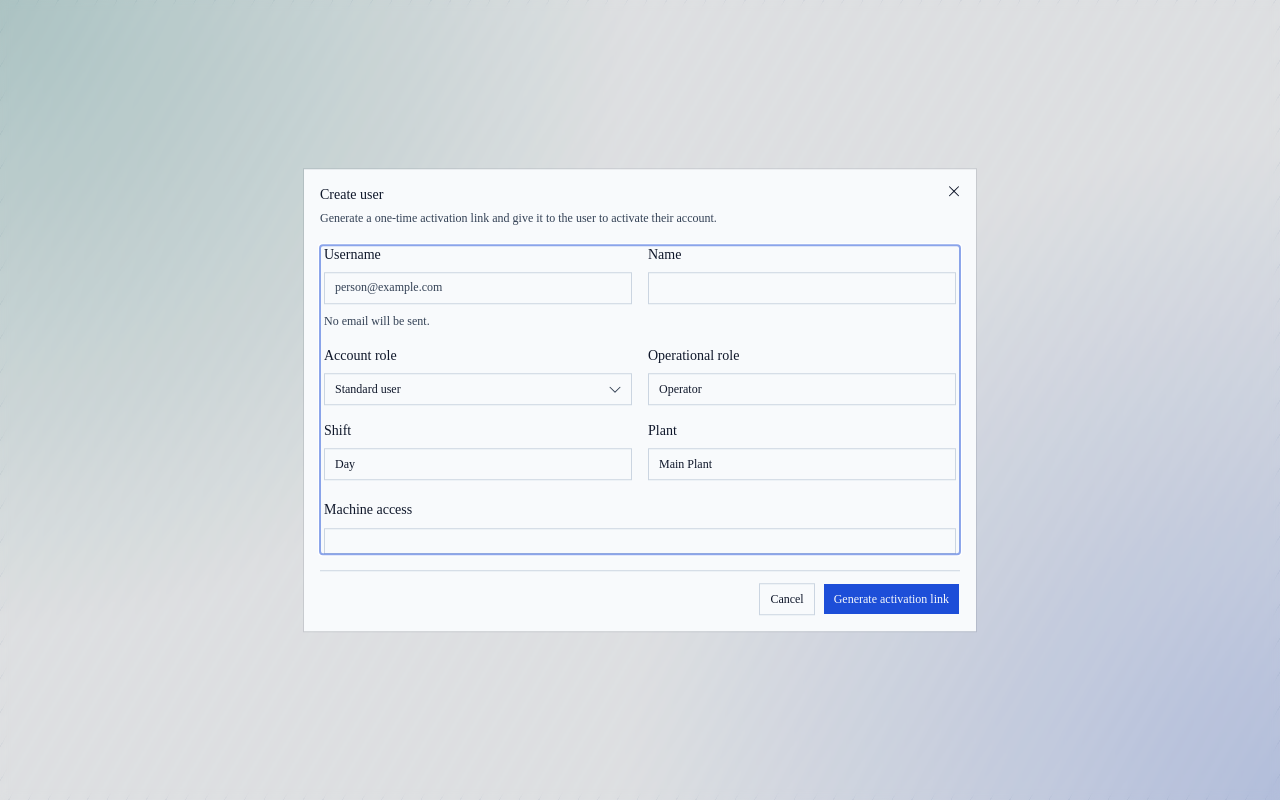
Test: admin user lifecycle › shows the generated activation link without implying email delivery
The image size is (1280, 800).
Expected: the text "No email will be sent." is shown, [324,314,430,328]
Type "new.user@example.com" into the field labelled "Username". click: (478, 288)
box: [324,272,632,304]
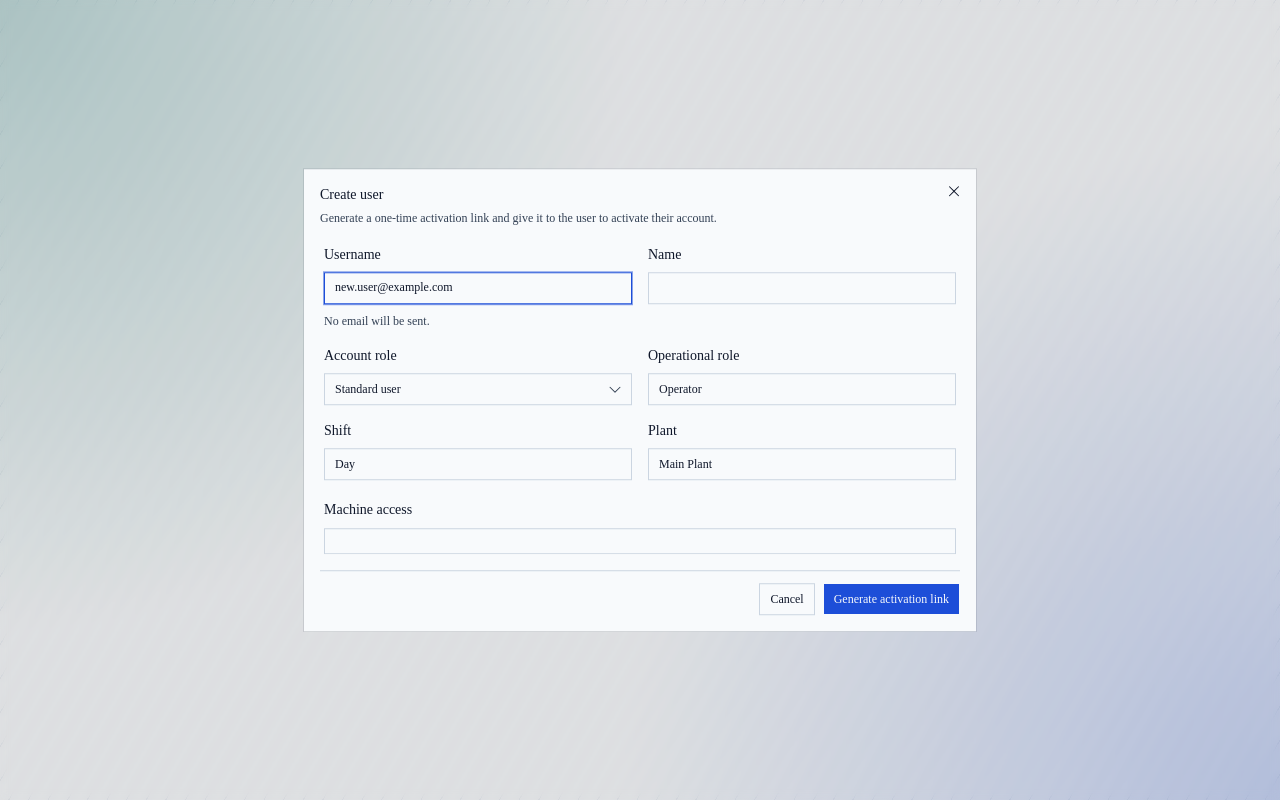
Type "New User" into the field labelled "Name". click: (802, 288)
box: [648,272,956,304]
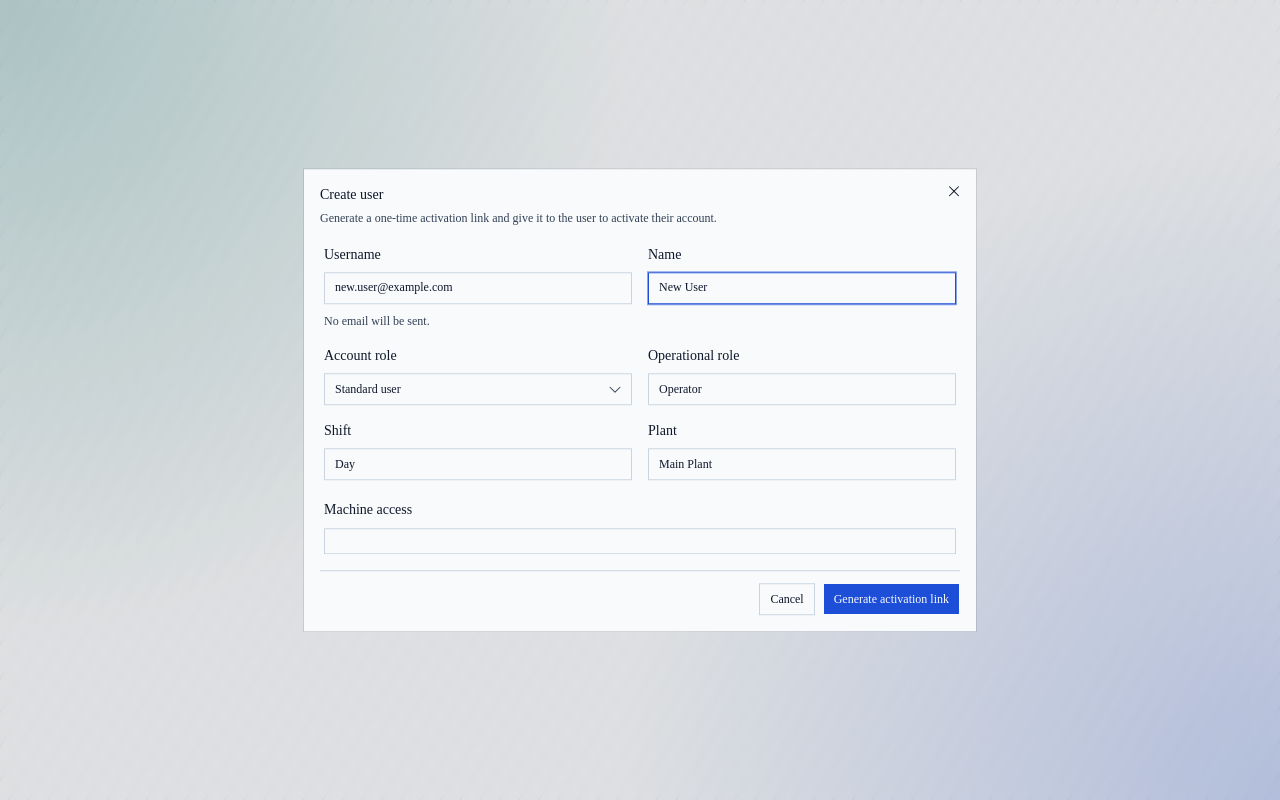
Click the button "Generate activation link". click: (891, 599)
box: [823,583,960,615]
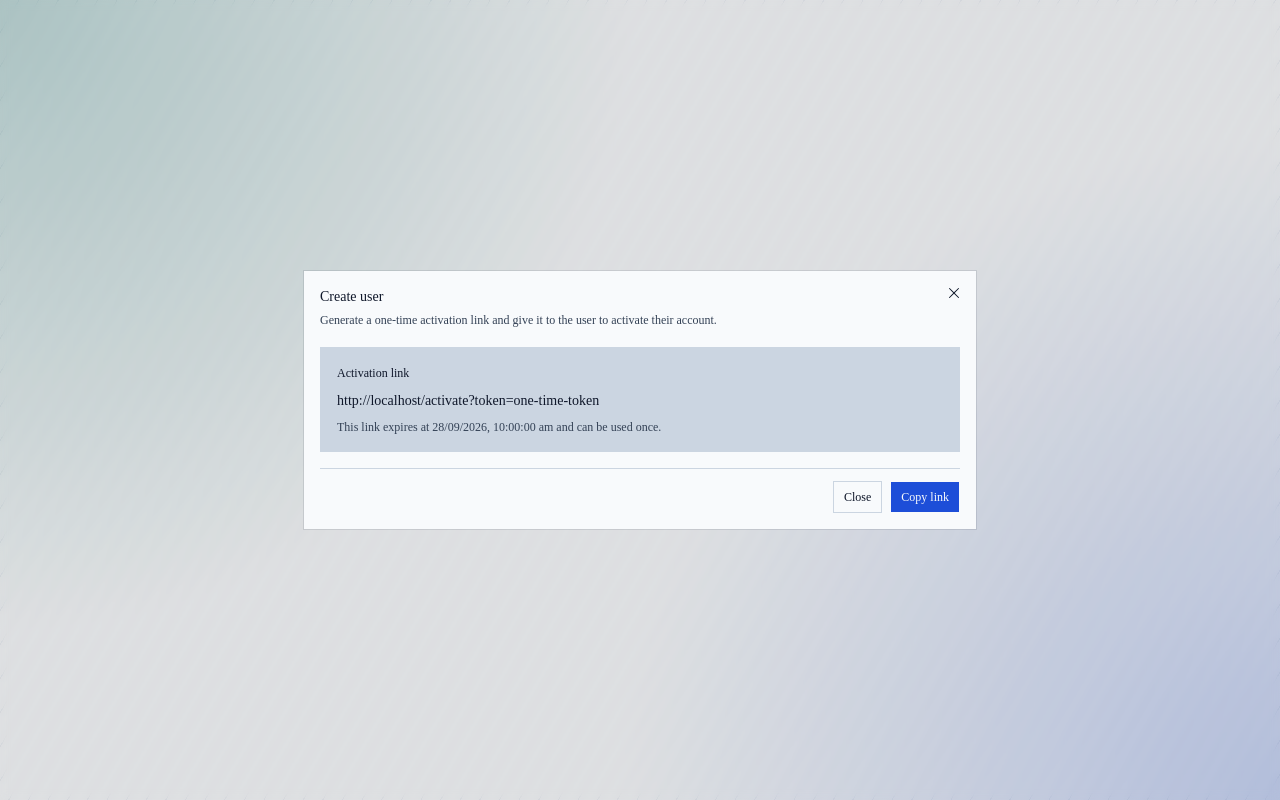
Expected: the text "http://localhost/activate?token=one-time-token" is shown, [337,393,599,408]
Expected: the button "Copy link" is shown, [890,481,960,513]
